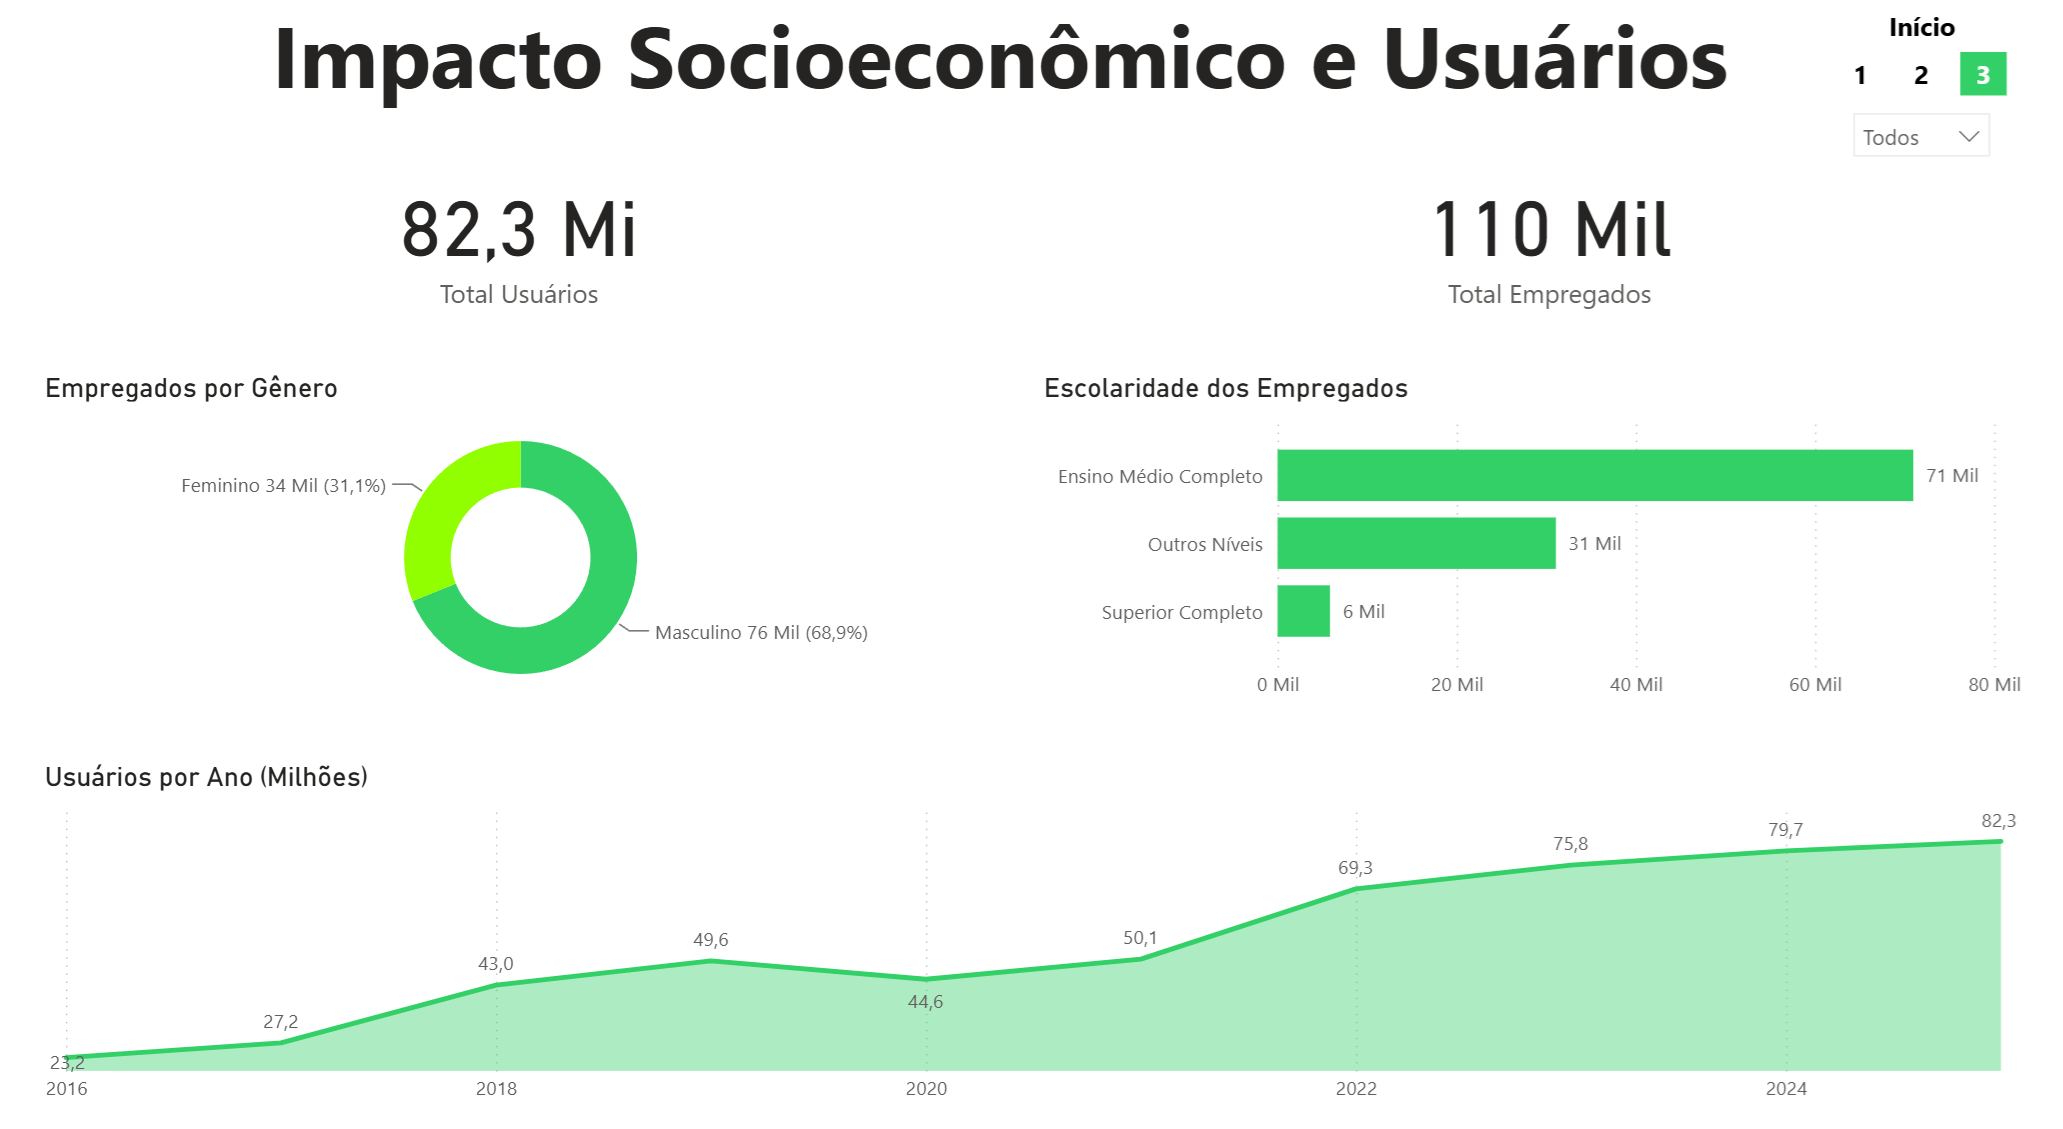

Layout of this report page (visuals, bound fields, positions):
{"tool":"powerbi","page":{"name":"Impacto Socioeconômico e Usuários","canvas":[1280,720],"ordinal":3},"visuals":[{"type":"shape","box":[1140.3,45.3,28.8,27.4],"z":0},{"type":"shape","box":[1178.7,45.3,28.8,27.4],"z":1000},{"type":"shape","box":[1217.2,45.3,28.8,27.4],"z":2000},{"type":"shape","box":[1160.6,17.4,65.9,23.6],"z":3000},{"type":"card","fields":{"Values":["_Medidas.Total Usuários (Milhões)"]},"box":[0,109.8,643.6,100.2],"z":4000},{"type":"card","fields":{"Values":["_Medidas.Total Empregados"]},"box":[643.3,109.8,636.7,100.2],"z":5000},{"type":"areaChart","title":"Usuários por Ano (Milhões)","fields":{"Category":["f_usuarios_total.Ano"],"Y":["Sum(f_usuarios_total.Valor)"]},"box":[22.5,485.4,1237.9,222.1],"z":6000},{"type":"donutChart","title":"Empregados por Gênero","fields":{"Category":["f_empregos_diretos.Categoria"],"Y":["_Medidas.Empregados Dinâmico"]},"box":[22.4,243.8,600.8,212.7],"z":7000},{"type":"textbox","box":[145,5,951.7,81.7],"z":8000},{"type":"clusteredBarChart","title":"Escolaridade dos Empregados","fields":{"Category":["f_empregos_diretos.Grupo Escolaridade"],"Y":["_Medidas.Empregados Dinâmico"]},"box":[643.1,243.8,617,212.7],"z":9000},{"type":"slicer","fields":{"Values":["d_ano.Ano"]},"box":[1140.5,73,104.8,43.1],"z":10000}]}

Visuals, with their boxes in screenshot pixels (x1, y1, x2, y2), scaled from the page's 1280x720 canvas onto the 2063x1129 screenshot:
shape: 1838,71,1884,114
shape: 1900,71,1946,114
shape: 1962,71,2008,114
shape: 1871,27,1977,64
card - _Medidas.Total Usuários (Milhões): 0,172,1037,329
card - _Medidas.Total Empregados: 1037,172,2062,329
"Usuários por Ano (Milhões)" areaChart: 36,761,2031,1109
"Empregados por Gênero" donutChart: 36,382,1004,716
textbox: 234,8,1768,136
"Escolaridade dos Empregados" clusteredBarChart: 1036,382,2031,716
slicer - d_ano.Ano: 1838,114,2007,182
